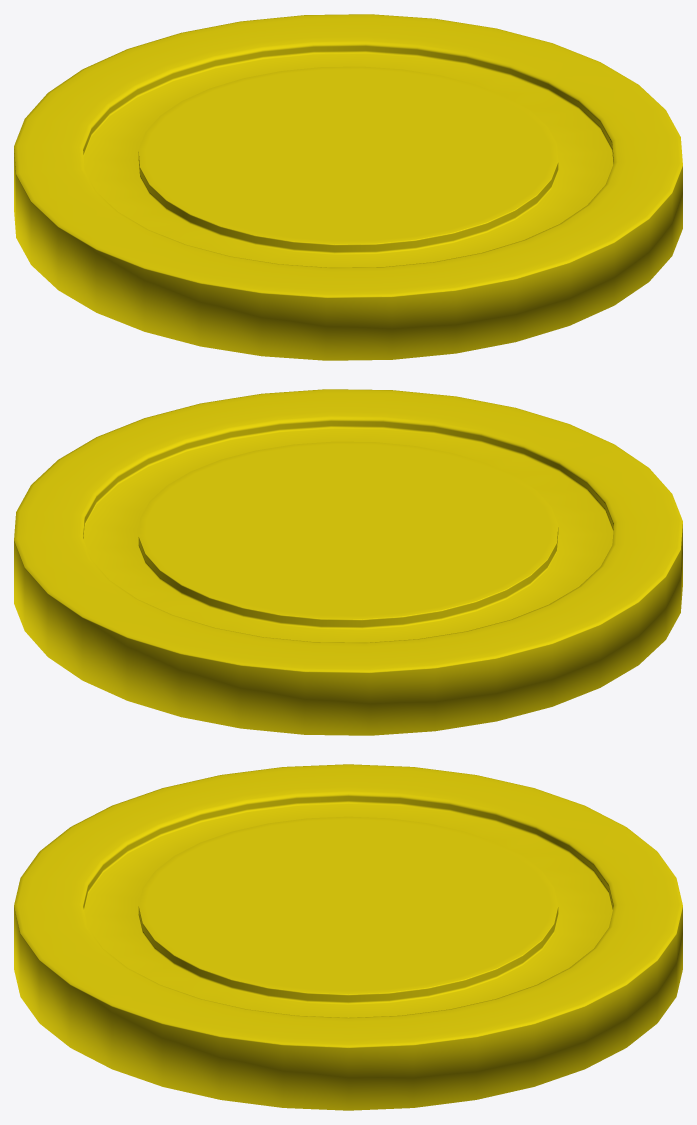
Rendered from Gold Coin.fbx.
The picture shows the model from 3 angles, top to bottom: view 1: azimuth 30°, elevation 25°; view 2: azimuth 150°, elevation 25°; view 3: azimuth 270°, elevation 25°; orthographic projection.
Visible parts, largest first — view 1: Cylinder.013; view 2: Cylinder.013; view 3: Cylinder.013.
Part boxes in pixels (x1,y1,x2,y2): Cylinder.013: (14,14,682,360); Cylinder.013: (14,389,682,735); Cylinder.013: (14,764,682,1110).
Bounding box in the file's own units: 56.3 × 6.15 × 56.3.
